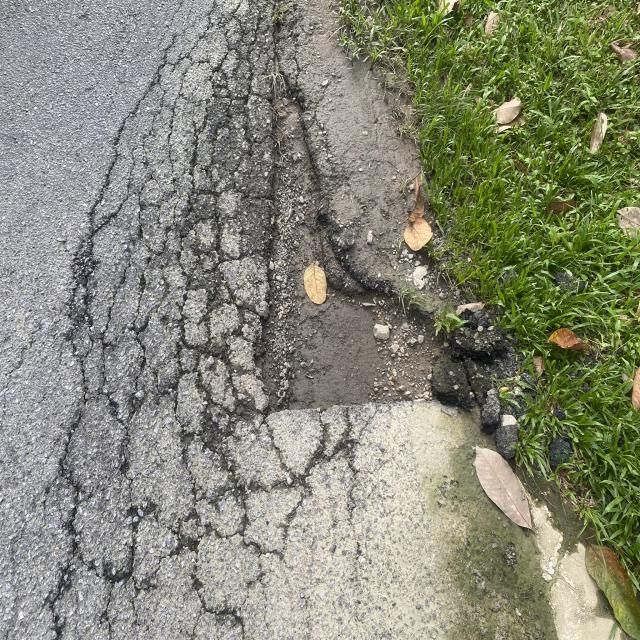Pothole: (218, 51, 414, 457)
